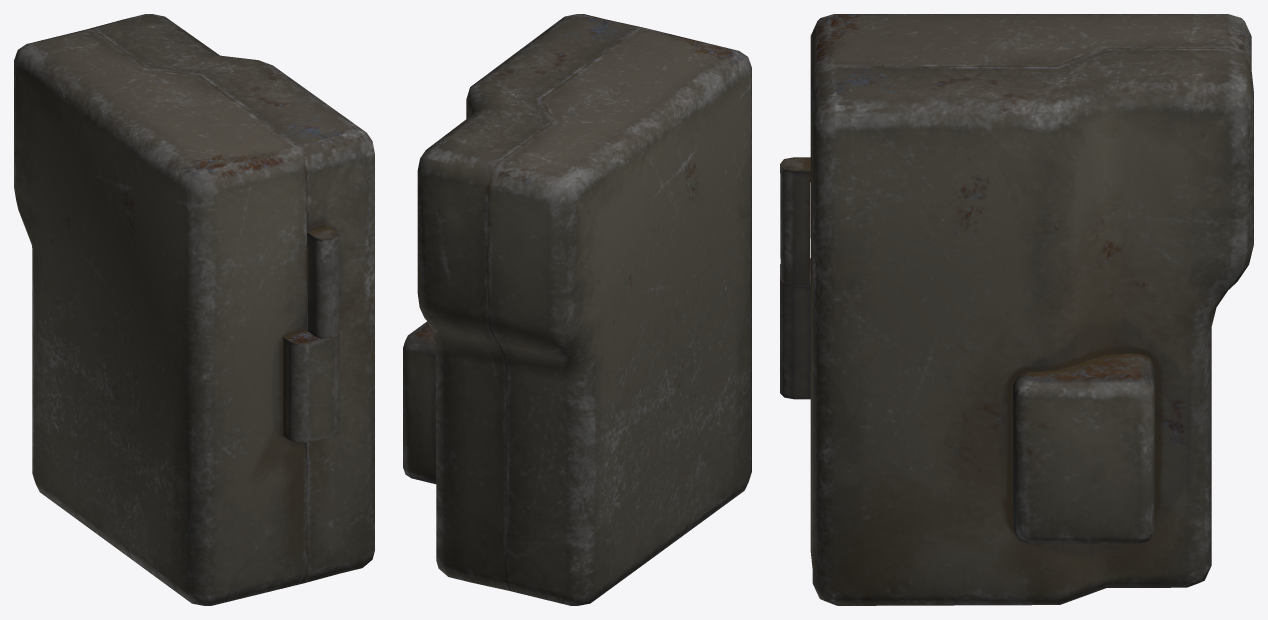
Rendered from SM_Electricbox_07_LOD0.glb.
The picture shows the model from 3 angles, left to right: view 1: azimuth 30°, elevation 25°; view 2: azimuth 150°, elevation 25°; view 3: azimuth 270°, elevation 25°; orthographic projection. The views are drawn at different scales.
Visible parts, largest first — view 1: SM_Electricbox_07_LOD0; view 2: SM_Electricbox_07_LOD0; view 3: SM_Electricbox_07_LOD0.
Boxes of the visible parts, x1,y1,x2,y2 form: SM_Electricbox_07_LOD0: (14,14,374,605); SM_Electricbox_07_LOD0: (403,14,751,605); SM_Electricbox_07_LOD0: (780,14,1253,605).
Size of the model in its own units: 0.1495 by 0.2988 by 0.2542.
1 material, 1 textured.
